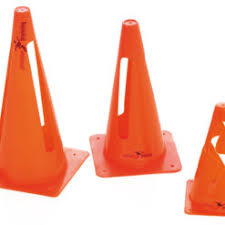cones: (1, 7, 89, 199), (89, 17, 185, 176), (185, 102, 225, 214)
